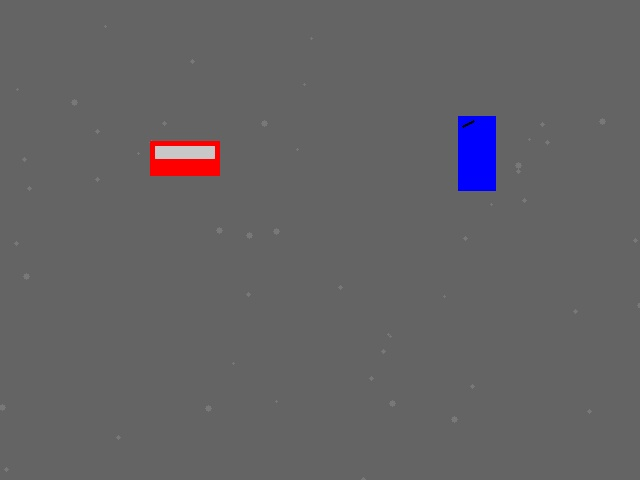car: (150, 141, 219, 175)
motorcycle: (458, 116, 495, 190)
